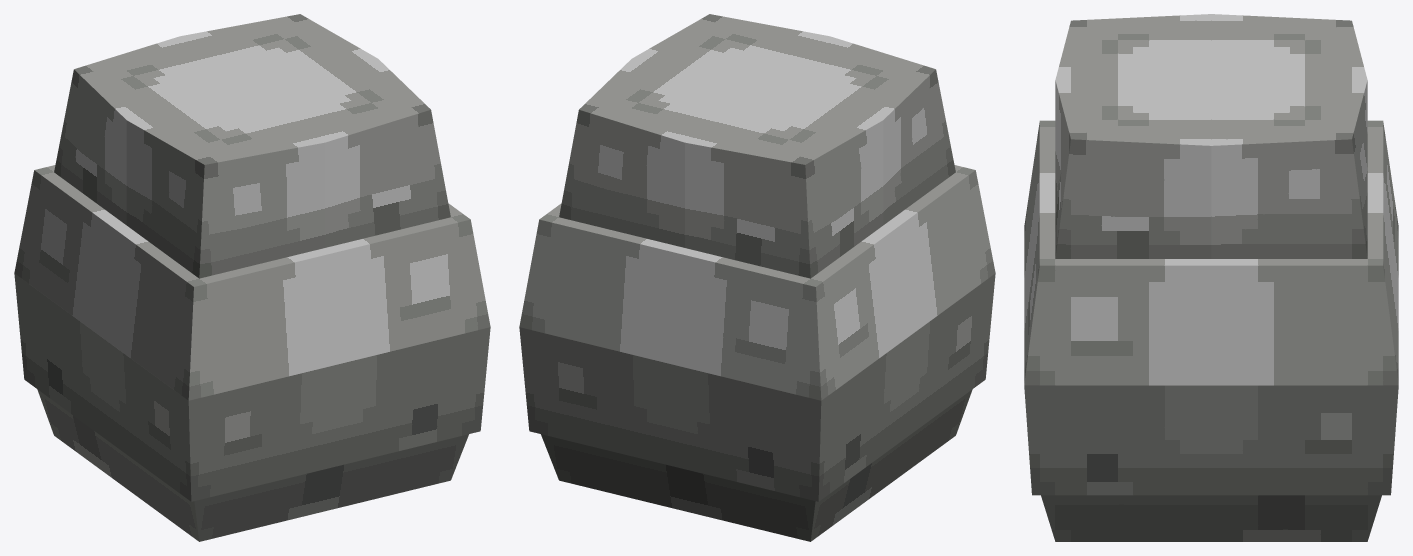
File: stone-egg.gltf
3 renders of one model, left to right at view 1: azimuth 30°, elevation 25°; view 2: azimuth 150°, elevation 25°; view 3: azimuth 270°, elevation 25°, orthographic. The views are drawn at different scales.
Visible parts, largest first — view 1: cube (×3); view 2: cube (×3); view 3: cube (×3).
Boxes of the visible parts, bbox=[...] form: cube (×3): bbox=[14, 14, 490, 541]; cube (×3): bbox=[519, 14, 995, 541]; cube (×3): bbox=[1024, 14, 1398, 541].
Bounding box in the file's own units: 0.75 × 0.875 × 0.75.
Materials: 1 (1 with a texture image).
